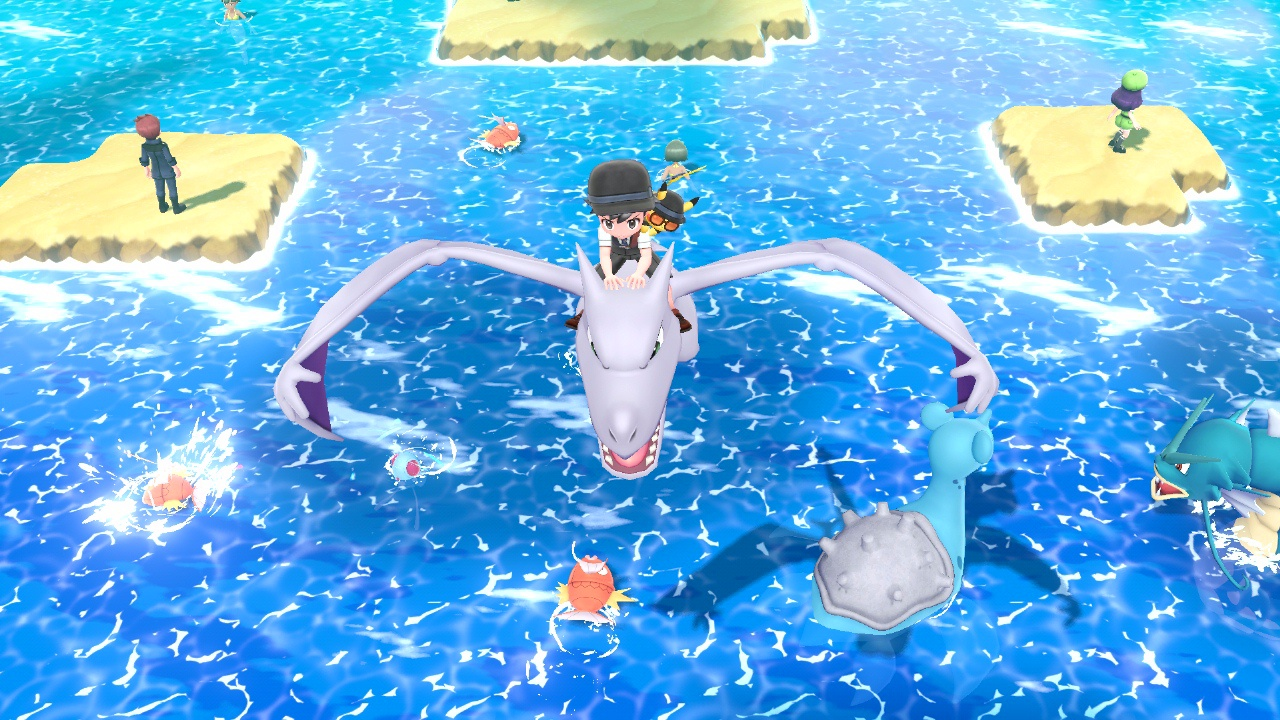Red: (558, 553, 642, 624), (143, 474, 202, 512), (478, 119, 525, 154)
